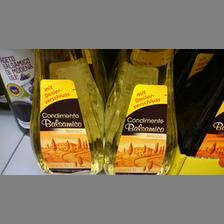Essig: (29, 47, 103, 172), (104, 48, 176, 174)
